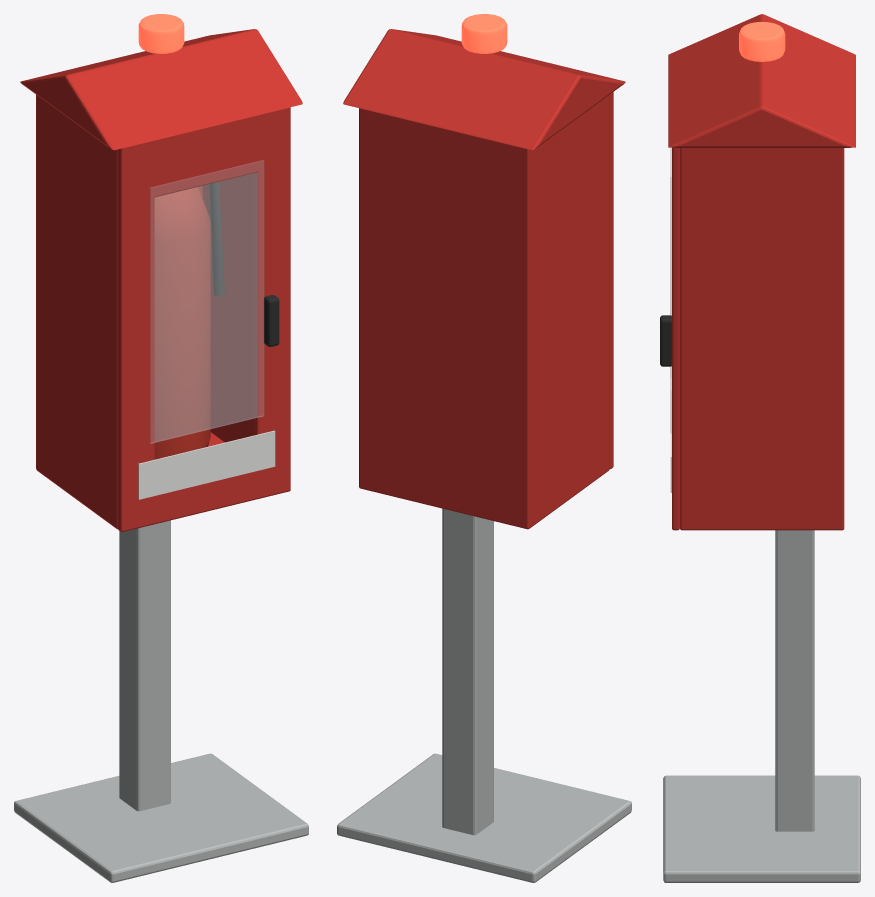
Rendered from city-outdoor-extinguisher-box.glb.
3 renders of one model, left to right at view 1: azimuth 30°, elevation 25°; view 2: azimuth 150°, elevation 25°; view 3: azimuth 270°, elevation 25°, orthographic.
Parts seen in each view (by area): view 1: Assembly | Fire red steel box, Assembly | Galvanized stand, Assembly | Clear inspection window, Assembly | Extinguisher red cylinder, Assembly | Blank white label, Assembly | Black hose and handle, Assembly | Red indicator lamp, lit; view 2: Assembly | Fire red steel box, Assembly | Galvanized stand, Assembly | Red indicator lamp, lit; view 3: Assembly | Fire red steel box, Assembly | Galvanized stand, Assembly | Red indicator lamp, lit, Assembly | Black hose and handle, Assembly | Clear inspection window.
Part boxes in pixels (left/top/right/bottom): Assembly | Fire red steel box: left=20, top=29, right=302, bottom=531; Assembly | Galvanized stand: left=14, top=520, right=308, bottom=882; Assembly | Clear inspection window: left=150, top=160, right=264, bottom=443; Assembly | Extinguisher red cylinder: left=154, top=187, right=210, bottom=459; Assembly | Blank white label: left=138, top=430, right=275, bottom=499; Assembly | Black hose and handle: left=208, top=182, right=279, bottom=346; Assembly | Red indicator lamp, lit: left=138, top=14, right=184, bottom=53; Assembly | Fire red steel box: left=343, top=29, right=625, bottom=529; Assembly | Galvanized stand: left=337, top=508, right=631, bottom=882; Assembly | Red indicator lamp, lit: left=461, top=14, right=507, bottom=53; Assembly | Fire red steel box: left=668, top=14, right=855, bottom=530; Assembly | Galvanized stand: left=663, top=530, right=860, bottom=882; Assembly | Red indicator lamp, lit: left=739, top=21, right=785, bottom=61; Assembly | Black hose and handle: left=660, top=315, right=671, bottom=366; Assembly | Clear inspection window: left=670, top=147, right=671, bottom=433.
Size of the model in its own units: 0.35 by 1.35 by 0.305.
